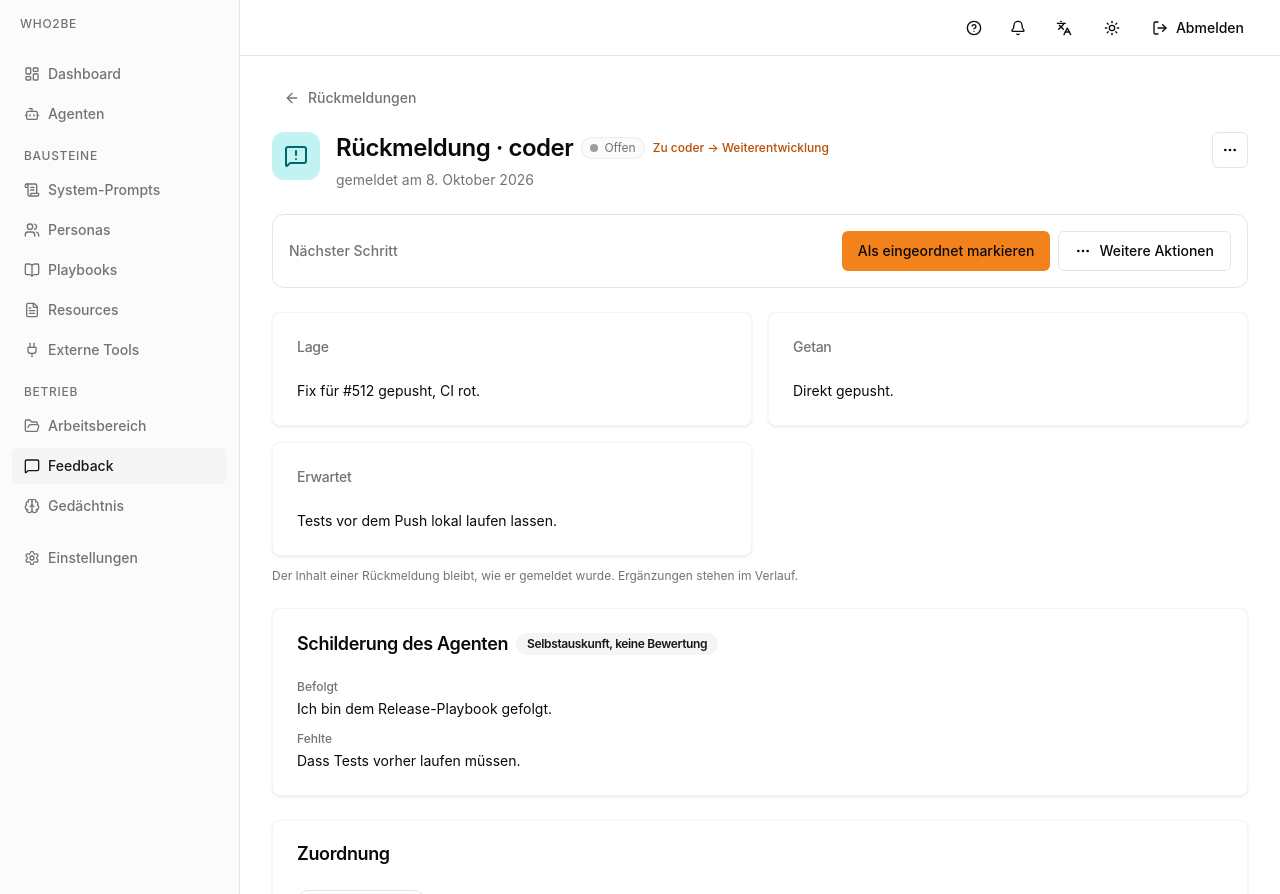
Scenario: CaseDetailPage – Status aus Phase E (E5a) › kein Knopf und kein Menüpunkt setzt In Arbeit oder Hat gewirkt (open)
This screenshot has width=1280, height=894.
Expected: the heading "Rückmeldung · coder" is shown, [336,132,573,164]
Press the mouse on the button with test id "case-status-menu" at [1145, 251], box [1058,231,1231,271]
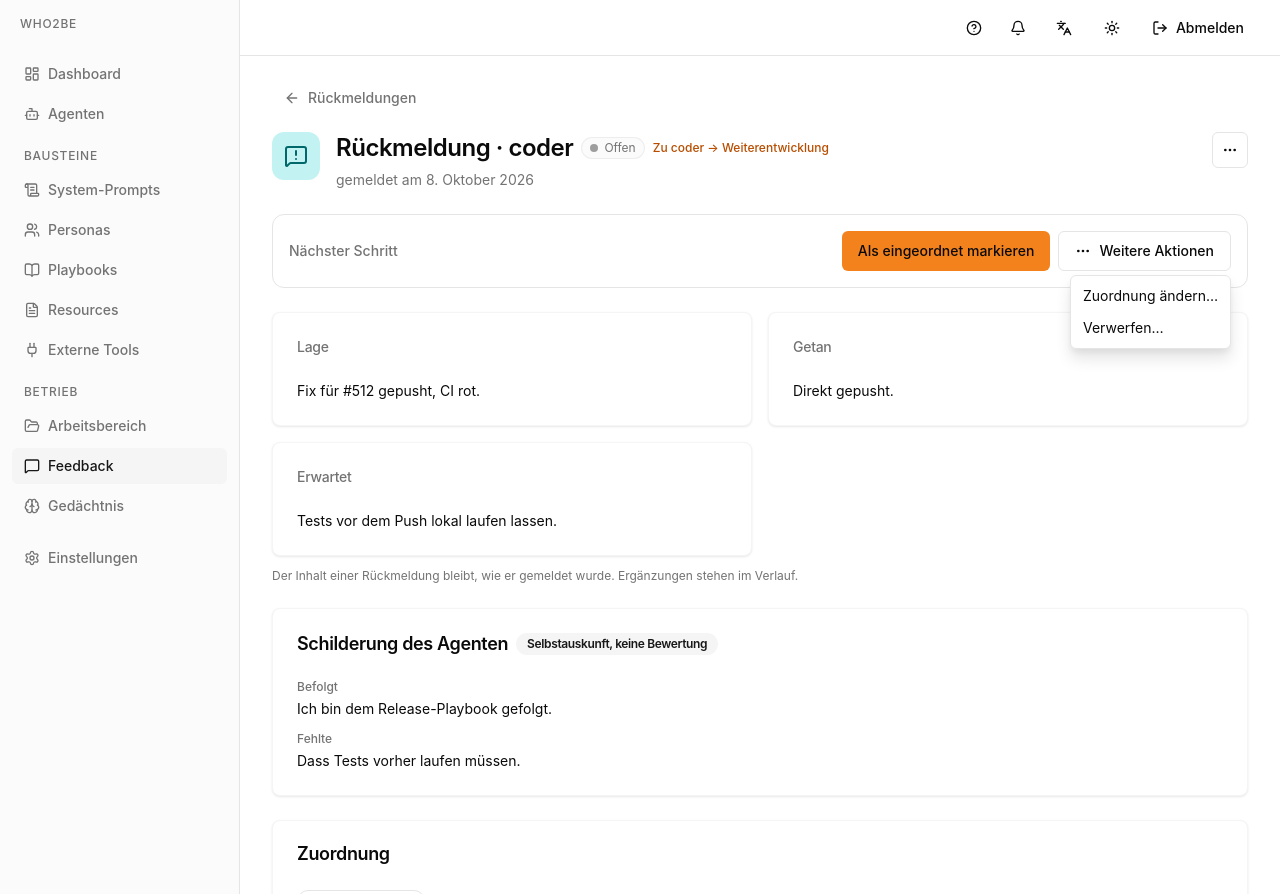
Press Escape in the menu, box [1070,275,1231,349]
Press the mouse on the button with test id "case-overflow" at [1230, 150], box [1212,132,1248,168]
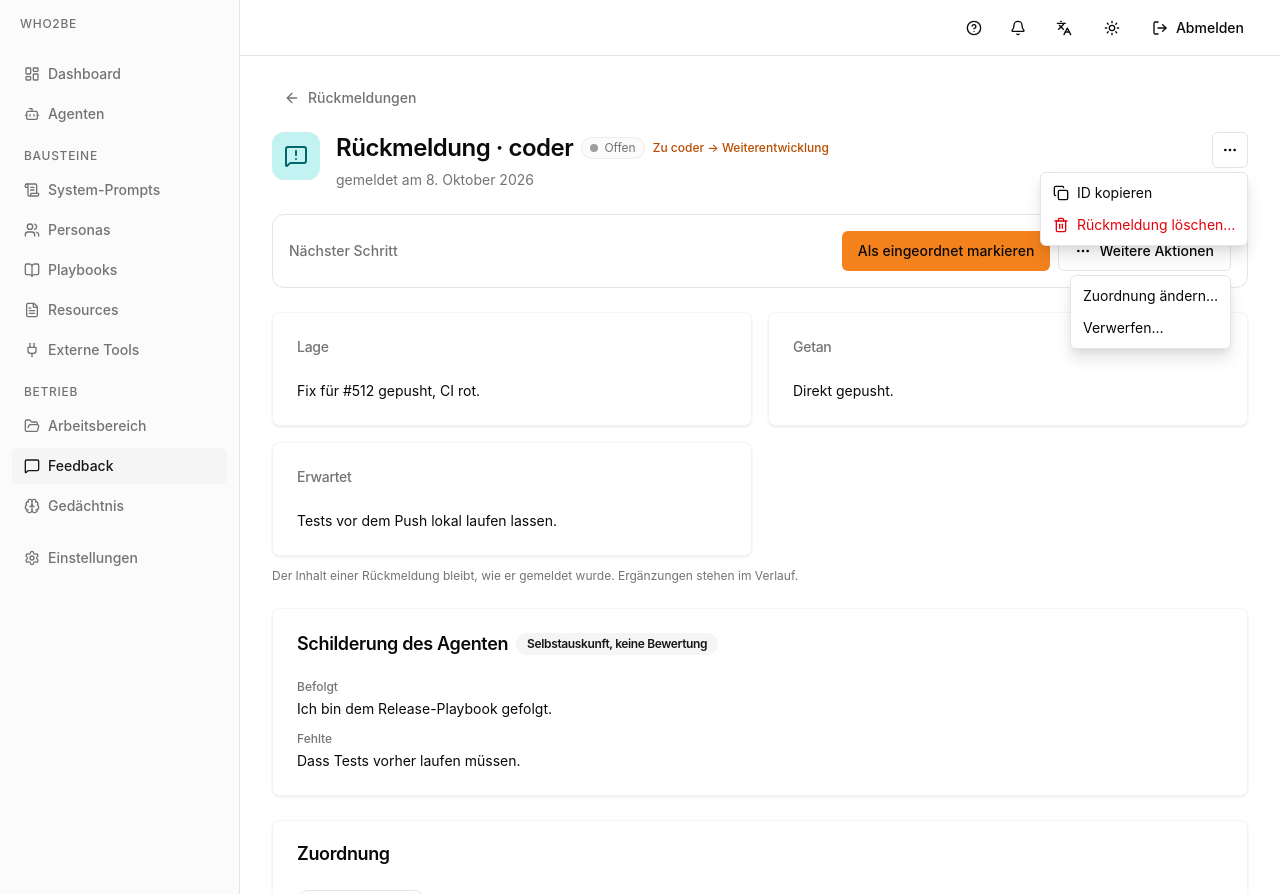
Result: the menu item "ID kopieren" is shown at [1053,184,1152,201]
